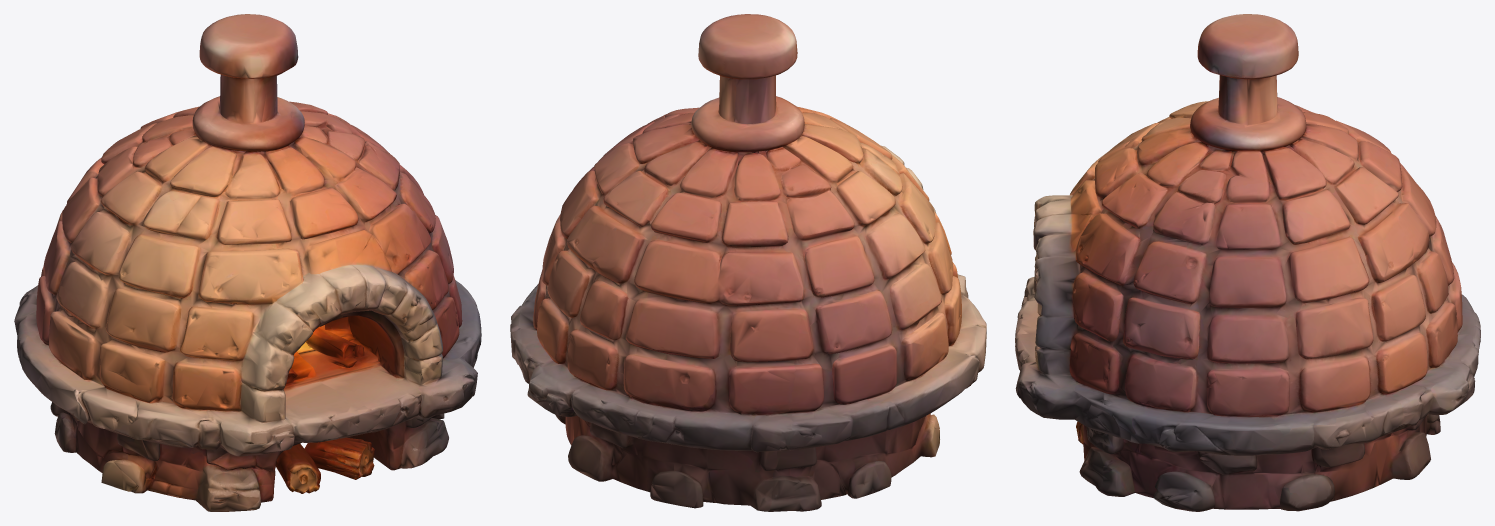
File: oven.glb
3 renders of one model, left to right at view 1: azimuth 30°, elevation 25°; view 2: azimuth 150°, elevation 25°; view 3: azimuth 270°, elevation 25°, orthographic.
Visible parts, largest first — view 1: tripo_node_e2c70db2-d7d0-49e0-8792-ad3e70b7a055; view 2: tripo_node_e2c70db2-d7d0-49e0-8792-ad3e70b7a055; view 3: tripo_node_e2c70db2-d7d0-49e0-8792-ad3e70b7a055.
Part boxes in pixels (<box>): tripo_node_e2c70db2-d7d0-49e0-8792-ad3e70b7a055: <box>14,14,481,511</box>; tripo_node_e2c70db2-d7d0-49e0-8792-ad3e70b7a055: <box>510,14,986,511</box>; tripo_node_e2c70db2-d7d0-49e0-8792-ad3e70b7a055: <box>1015,14,1480,511</box>.
Bounding box in the file's own units: 0.9813 × 0.923 × 0.9638.
Materials: 1 (1 with a texture image).
